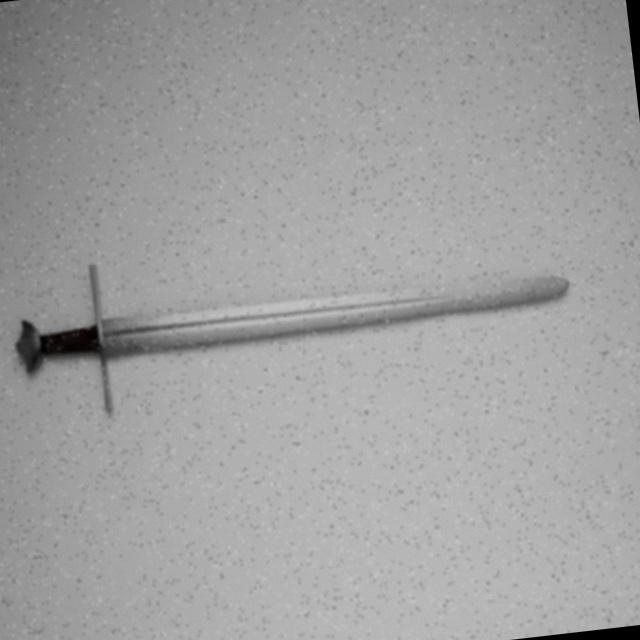Sharp-Object: (0, 264, 573, 380)
